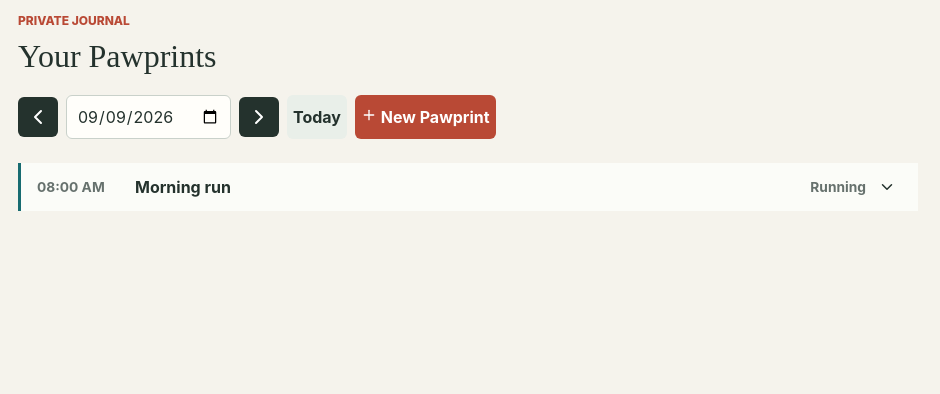
it: TimelinePage › refetches backend truth after deleting an event
The image size is (940, 394).
Expected: the text "Morning run" is shown, left=135, top=177, right=231, bottom=197
Click the button "08:00 AM Morning run Running".
click(71, 187)  # box left=21, top=163, right=918, bottom=211
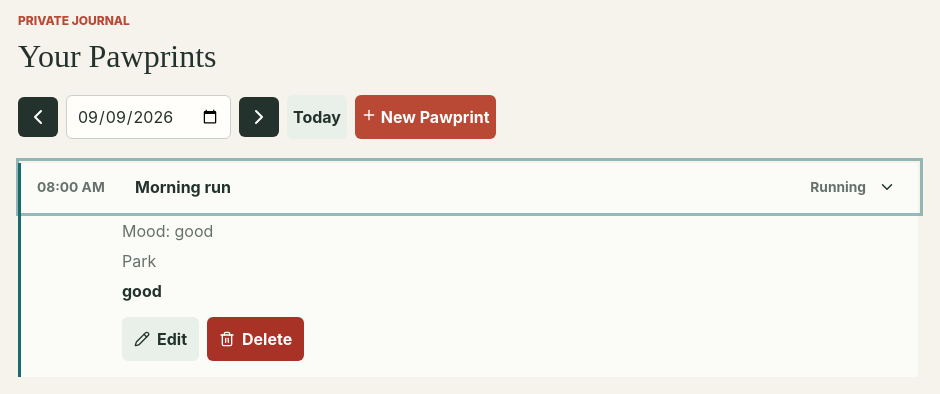
Click the button with aria-label "Delete Morning run".
click(256, 339)  # box left=207, top=317, right=304, bottom=361
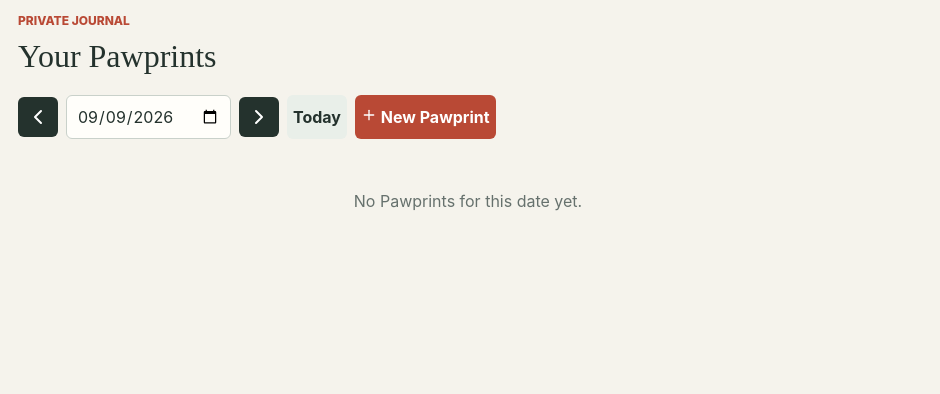
Result: the button "Morning run" is gone
